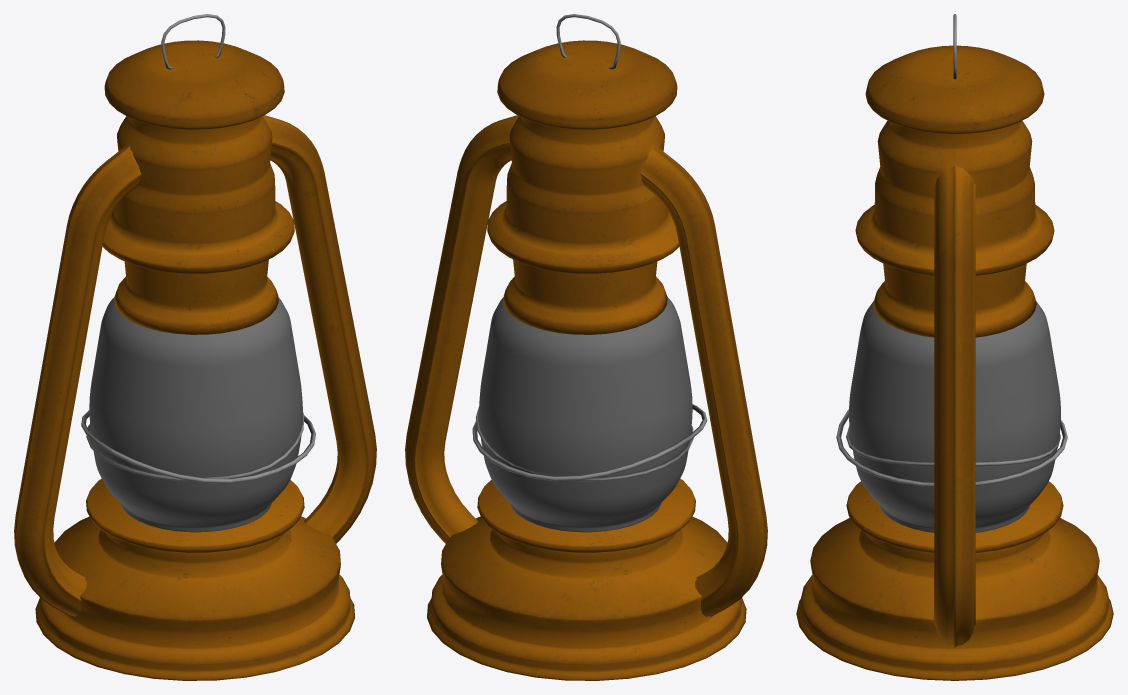
File: lantern.glb
3 renders of one model, left to right at view 1: azimuth 30°, elevation 25°; view 2: azimuth 150°, elevation 25°; view 3: azimuth 270°, elevation 25°, orthographic.
Visible parts, largest first — view 1: Bottom_Material #33_0, Bottom_Material #47_0; view 2: Bottom_Material #33_0, Bottom_Material #47_0; view 3: Bottom_Material #33_0, Bottom_Material #47_0.
Boxes of the visible parts, x1,y1,x2,y2 form: Bottom_Material #33_0: (14,14,376,680); Bottom_Material #47_0: (89,297,302,532); Bottom_Material #33_0: (405,14,767,680); Bottom_Material #47_0: (479,297,692,532); Bottom_Material #33_0: (796,14,1113,680); Bottom_Material #47_0: (849,301,1060,532).
Size of the model in its own units: 0.8786 by 1.39 by 0.6778.
Materials: 2 (2 with a texture image).
